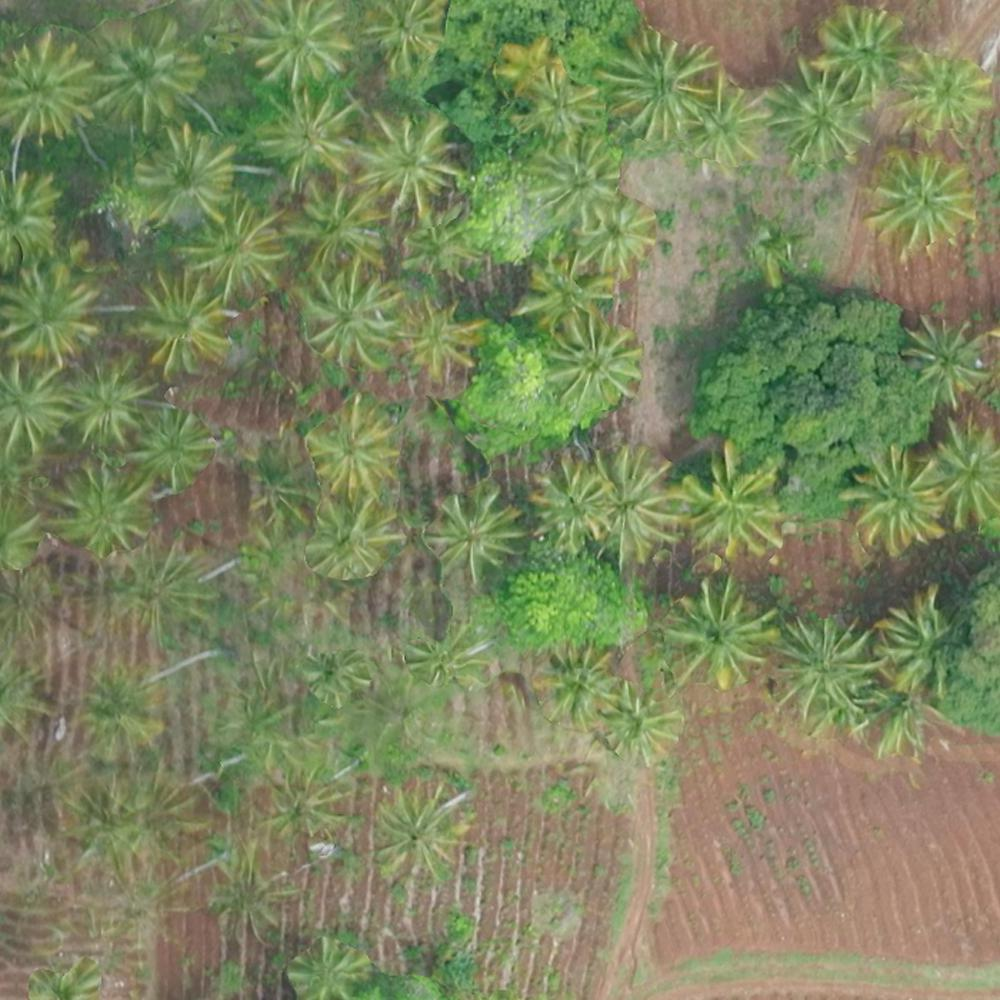Palm: (840, 444, 950, 551), (584, 446, 686, 561), (867, 149, 975, 257), (671, 578, 777, 688), (685, 447, 784, 558), (602, 28, 704, 135), (767, 63, 871, 165), (296, 268, 401, 368), (771, 615, 874, 716), (93, 25, 197, 124), (129, 269, 226, 373), (540, 313, 642, 411), (354, 110, 454, 209), (47, 458, 147, 557), (2, 30, 93, 136), (680, 73, 774, 175), (137, 126, 232, 221), (259, 90, 357, 182), (919, 416, 1000, 526), (374, 785, 467, 880), (2, 263, 92, 361), (288, 178, 376, 275), (524, 136, 622, 222), (307, 400, 394, 494), (248, 2, 346, 85), (874, 591, 955, 691), (186, 200, 275, 290), (817, 7, 908, 95), (66, 356, 154, 446), (900, 48, 991, 133), (899, 313, 983, 405), (432, 488, 521, 574), (514, 256, 616, 329), (572, 194, 658, 276), (592, 678, 679, 758), (536, 638, 619, 719), (529, 461, 608, 546), (397, 293, 478, 375), (128, 405, 207, 489), (307, 497, 393, 574), (1, 358, 74, 446), (363, 1, 446, 71), (2, 172, 63, 263), (284, 936, 368, 997), (527, 72, 601, 141), (496, 29, 562, 102)
